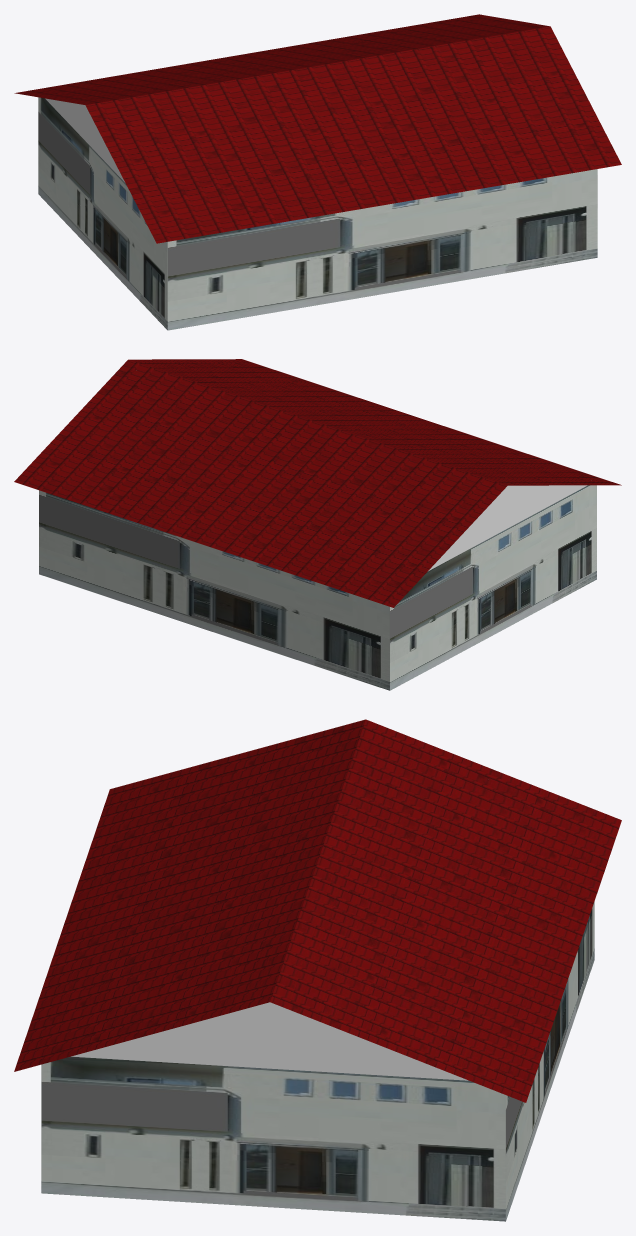
3 views of the same model, one above another, from view 1: azimuth 30°, elevation 25°; view 2: azimuth 150°, elevation 25°; view 3: azimuth 270°, elevation 25° (orthographic). The views are drawn at different scales.
Parts seen in each view (by area): view 1: CityEngineMaterial_17_m, CityEngineMaterial_11_m, CityEngineMaterial_3_m; view 2: CityEngineMaterial_17_m, CityEngineMaterial_11_m, CityEngineMaterial_3_m; view 3: CityEngineMaterial_17_m, CityEngineMaterial_11_m, CityEngineMaterial_3_m.
Boxes of the visible parts, left/top/right/bottom form: CityEngineMaterial_17_m: left=14, top=14, right=621, bottom=243; CityEngineMaterial_11_m: left=38, top=97, right=597, bottom=330; CityEngineMaterial_3_m: left=45, top=98, right=125, bottom=182; CityEngineMaterial_17_m: left=14, top=359, right=621, bottom=607; CityEngineMaterial_11_m: left=39, top=485, right=596, bottom=690; CityEngineMaterial_3_m: left=428, top=485, right=587, bottom=570; CityEngineMaterial_17_m: left=14, top=719, right=621, bottom=1102; CityEngineMaterial_11_m: left=41, top=901, right=594, bottom=1221; CityEngineMaterial_3_m: left=71, top=1002, right=468, bottom=1080.
Size of the model in its own units: 29 by 9.31 by 23.74.
